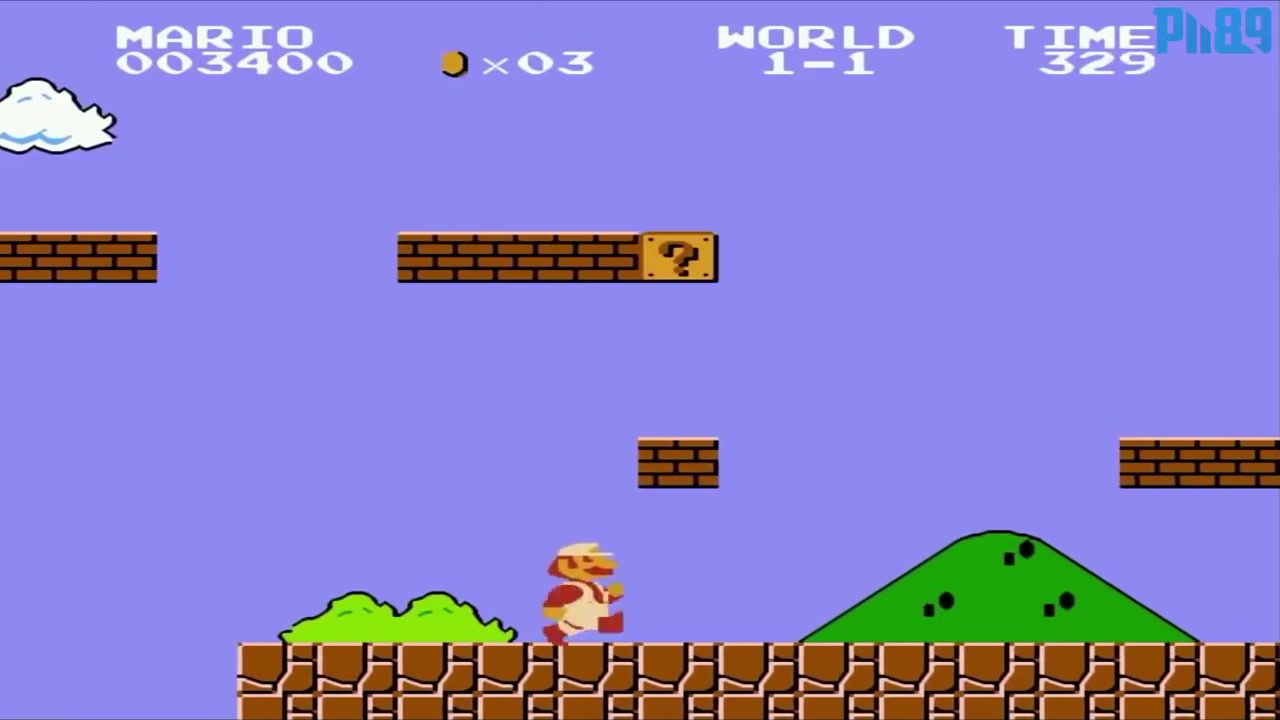mario: (527, 535, 629, 651)
